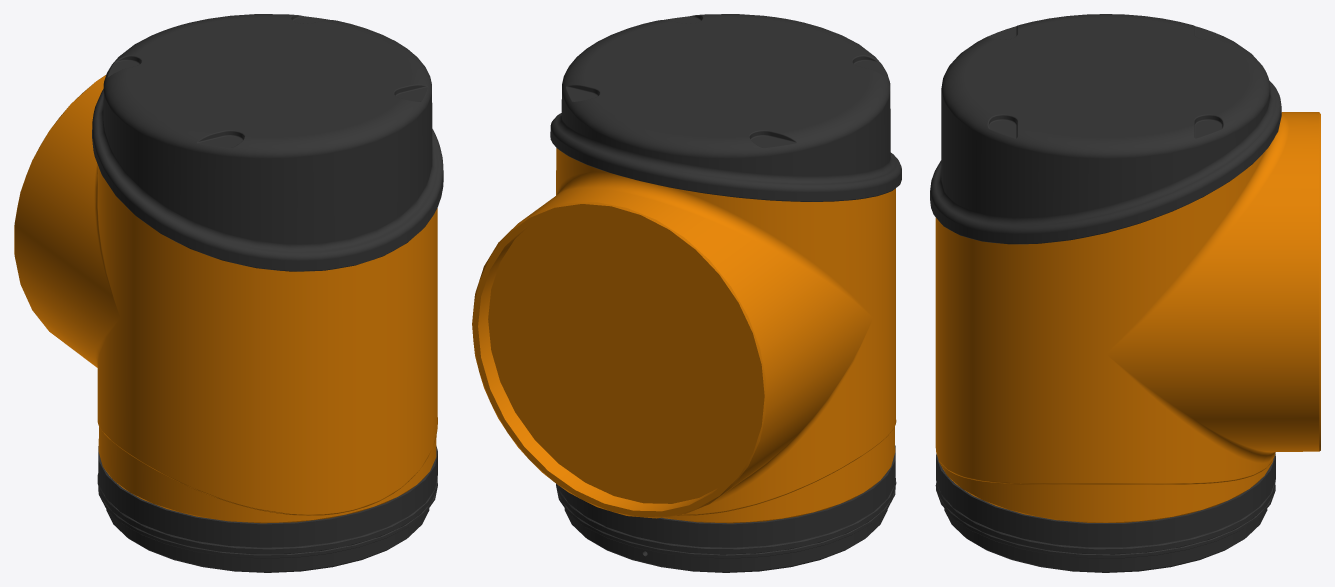
3 views of the same model, side by side, from view 1: azimuth 30°, elevation 25°; view 2: azimuth 150°, elevation 25°; view 3: azimuth 270°, elevation 25° (orthographic).
Visible parts, largest first — view 1: FBXASC195FBXASC135FBXASC195FBXASC144FBXASC194FBXASC179FBXASC; view 2: FBXASC195FBXASC135FBXASC195FBXASC144FBXASC194FBXASC179FBXASC; view 3: FBXASC195FBXASC135FBXASC195FBXASC144FBXASC194FBXASC179FBXASC.
Part boxes in pixels (<box>): FBXASC195FBXASC135FBXASC195FBXASC144FBXASC194FBXASC179FBXASC: <box>14,14,443,572</box>; FBXASC195FBXASC135FBXASC195FBXASC144FBXASC194FBXASC179FBXASC: <box>472,14,901,572</box>; FBXASC195FBXASC135FBXASC195FBXASC144FBXASC194FBXASC179FBXASC: <box>930,14,1320,572</box>.
Bounding box in the file's own units: 0.157 × 0.1745 × 0.211.
